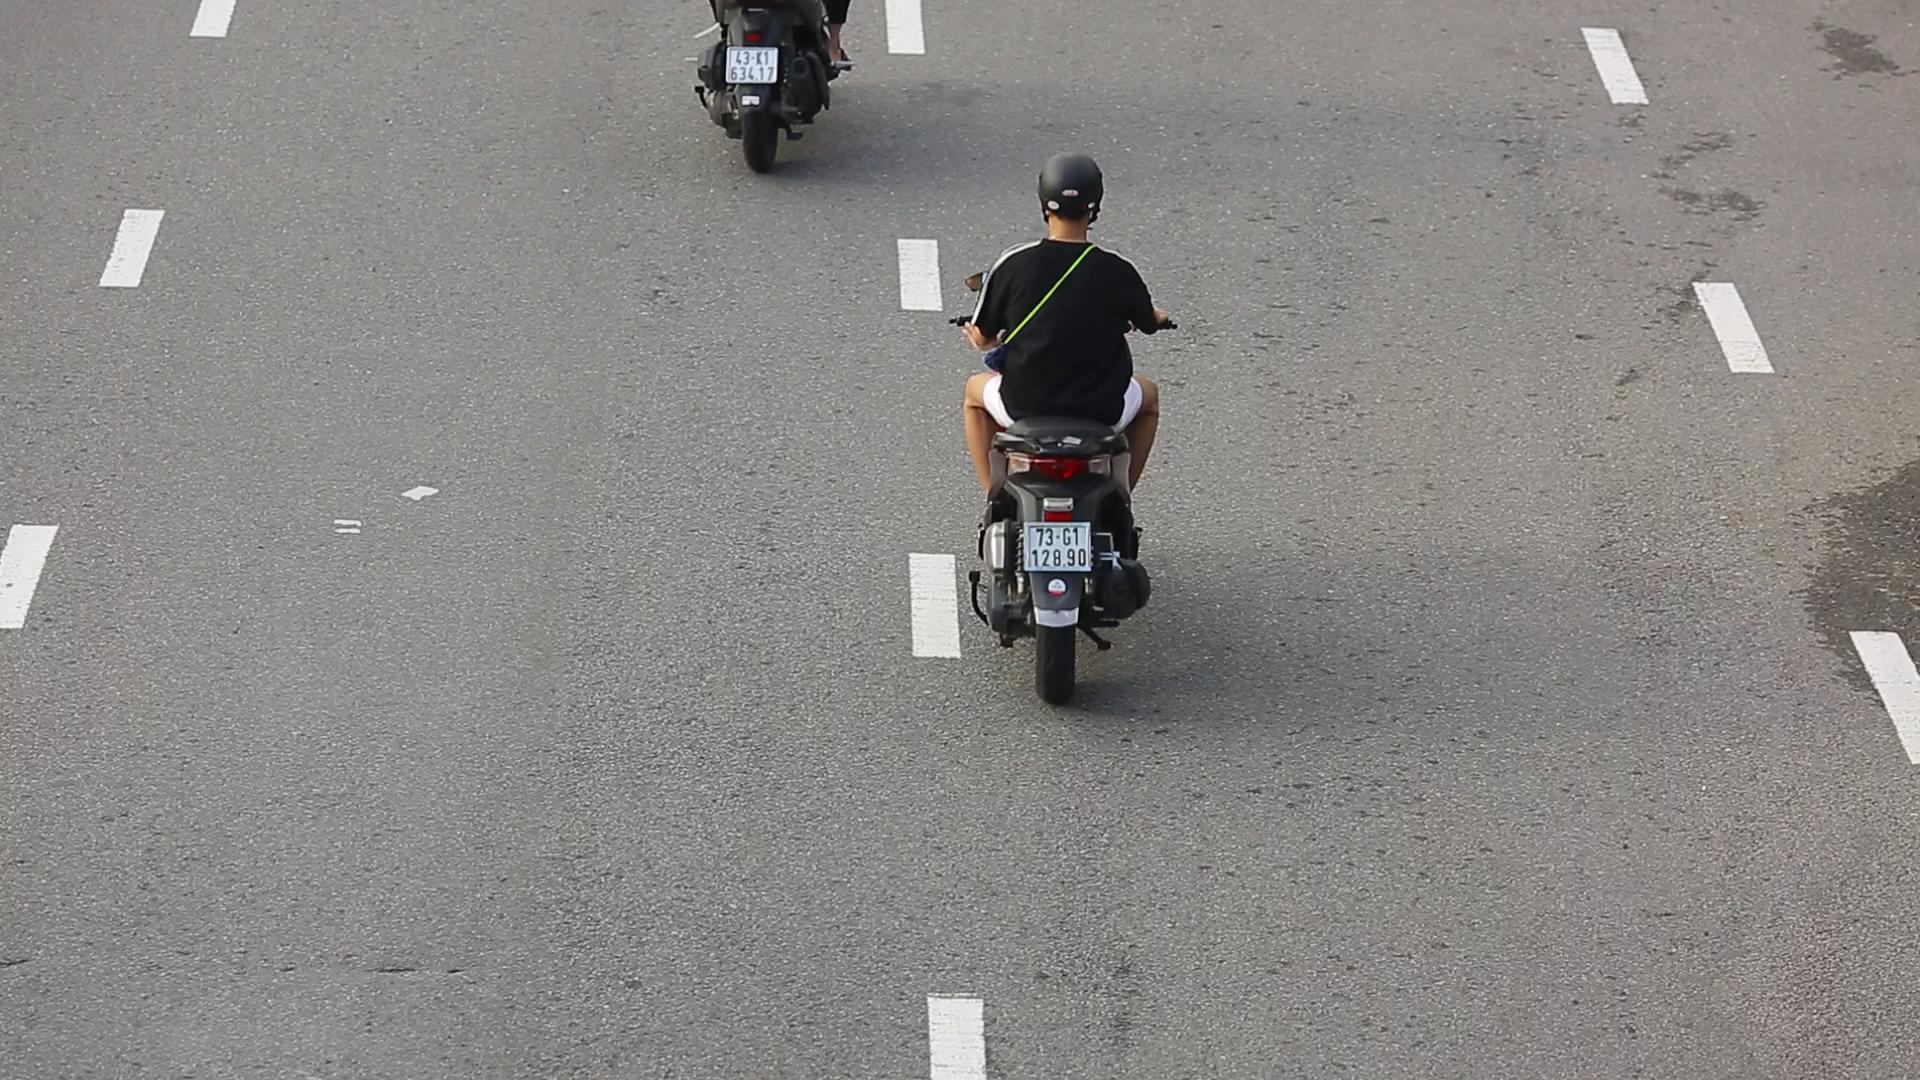motobike: (939, 145, 1187, 719)
